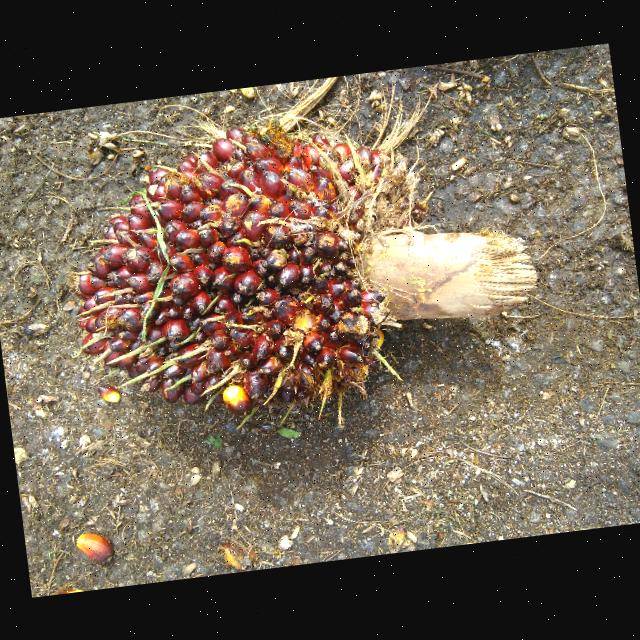Ripe: (79, 136, 385, 413)
